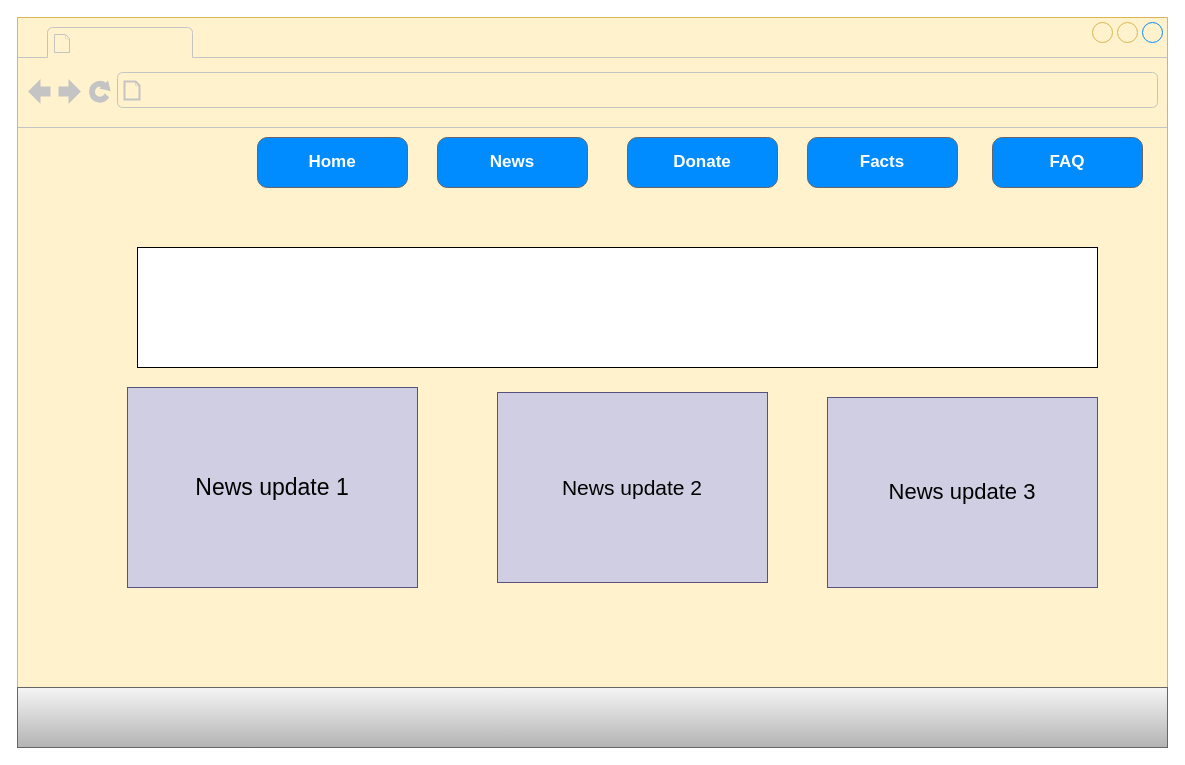
Image size: 1185x765. Some labels were removed from this diagram. Each missing label, with the centre of its shape:
Footer Content: point 592,717
Header Image: point 617,307
https://www.draw.io: point 272,90
PandaSaver: point 132,42
